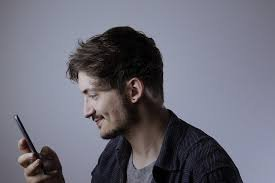noMask: (61, 32, 161, 136)
